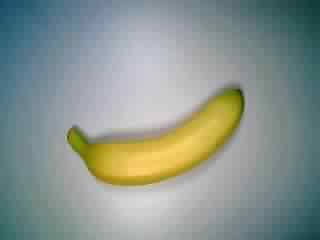banana: (61, 78, 246, 189)
